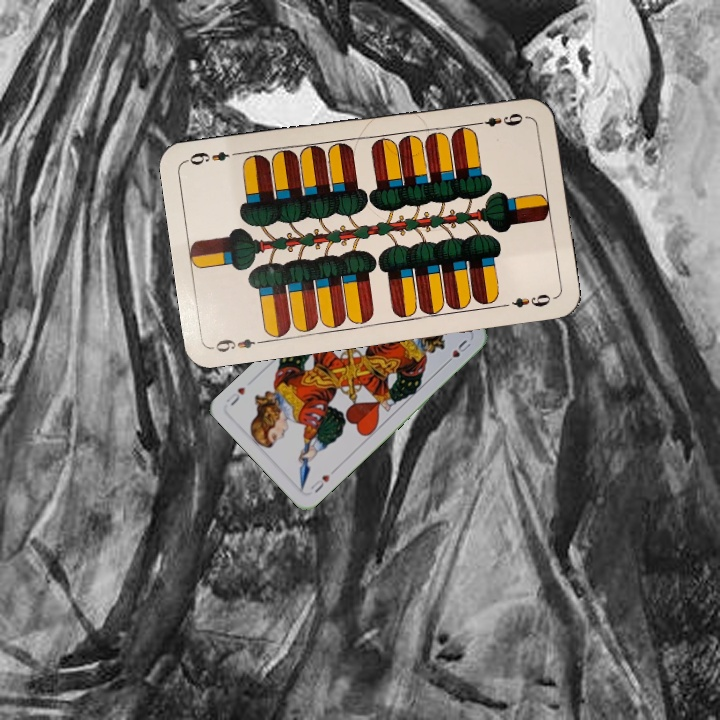E9: (209, 334, 268, 355), (471, 109, 530, 129)
HU: (306, 470, 333, 495)
